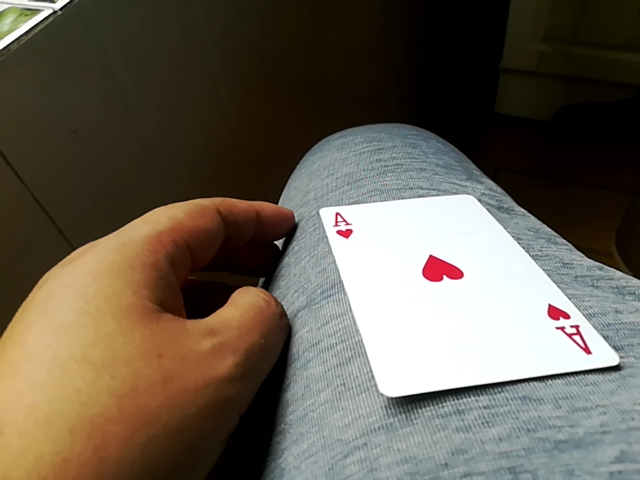hx a: (317, 190, 620, 402)
